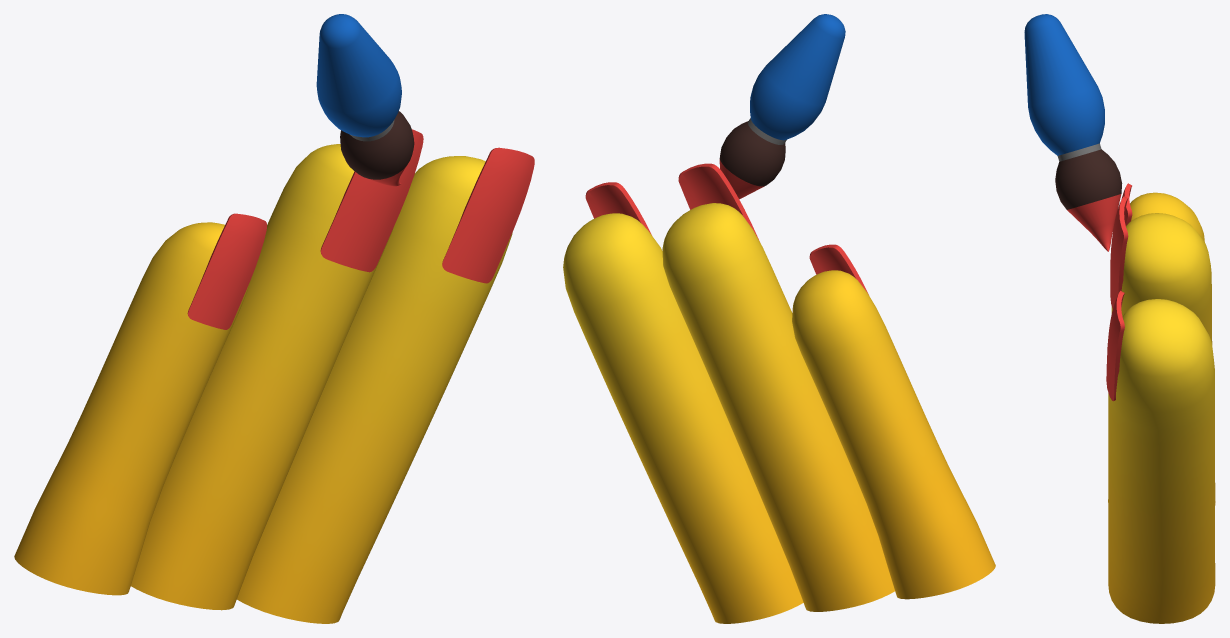
The model's file is nail_polish.fbx.
3 renders of one model, left to right at view 1: azimuth 30°, elevation 25°; view 2: azimuth 150°, elevation 25°; view 3: azimuth 270°, elevation 25°, orthographic. The views are drawn at different scales.
Parts seen in each view (by area): view 1: Cube.101; view 2: Cube.101; view 3: Cube.101.
Boxes of the visible parts, bbox=[...] form: Cube.101: bbox=[14, 14, 534, 623]; Cube.101: bbox=[563, 14, 995, 623]; Cube.101: bbox=[1024, 14, 1215, 623].
Bounding box in the file's own units: 142 × 182 × 53.76.
2 materials, 2 textured.
